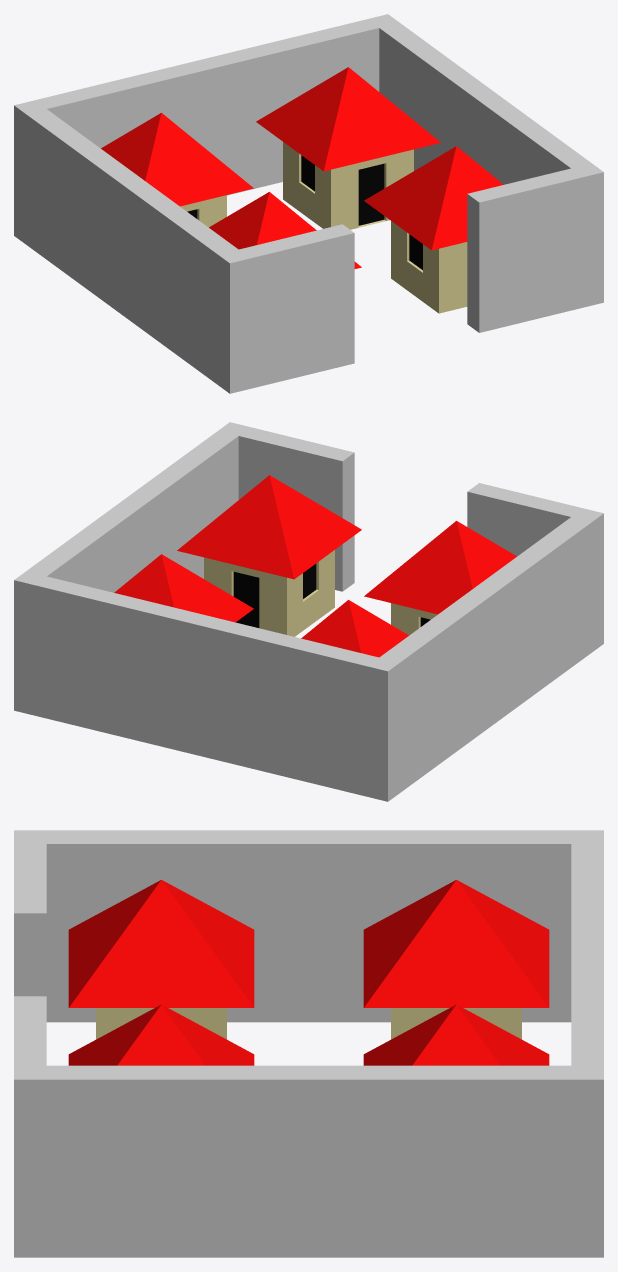
Rendered from Town.fbx.
3 renders of one model, top to bottom at view 1: azimuth 30°, elevation 25°; view 2: azimuth 150°, elevation 25°; view 3: azimuth 270°, elevation 25°, orthographic. The views are drawn at different scales.
Visible parts, largest first — view 1: Town; view 2: Town; view 3: Town.
Part boxes in pixels (box(x1,y1,x2,y2)): Town: box(14, 14, 603, 393); Town: box(14, 422, 603, 801); Town: box(14, 830, 603, 1257).
Bounding box in the file's own units: 180 × 64.31 × 180.
